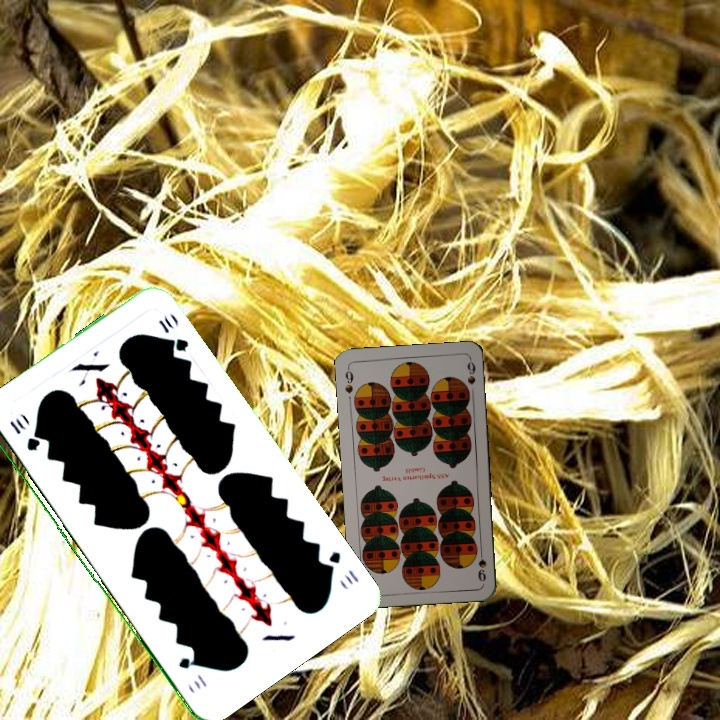G10: (319, 547, 362, 587), (5, 414, 40, 454)
S9: (474, 544, 489, 583), (341, 363, 356, 396)
